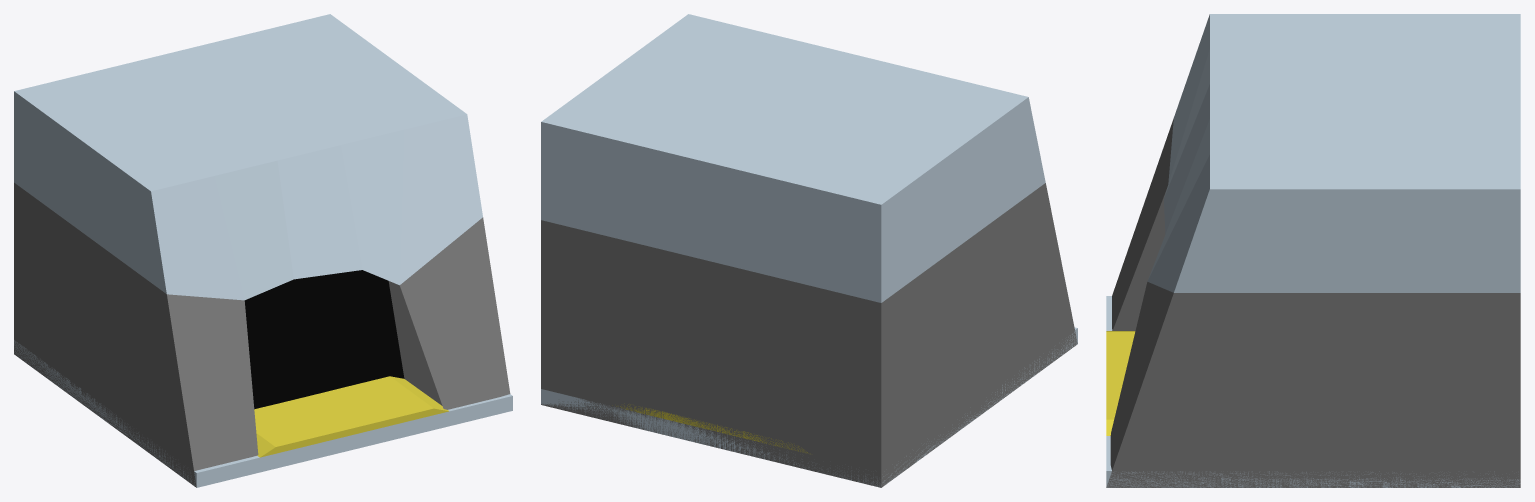
Rendered from world27.fbx.
The picture shows the model from 3 angles, left to right: view 1: azimuth 30°, elevation 25°; view 2: azimuth 150°, elevation 25°; view 3: azimuth 270°, elevation 25°; orthographic projection. The views are drawn at different scales.
Visible parts, largest first — view 1: Cube.138, Cube.139, Cube.140; view 2: Cube.138, Cube.140, Cube.139; view 3: Cube.138, Cube.140, Cube.139.
Part boxes in pixels (left/top/right/bottom): Cube.138: left=14, top=14, right=510, bottom=487; Cube.139: left=254, top=376, right=448, bottom=457; Cube.140: left=14, top=340, right=512, bottom=487; Cube.138: left=541, top=14, right=1077, bottom=487; Cube.140: left=541, top=327, right=1077, bottom=487; Cube.139: left=612, top=403, right=810, bottom=453; Cube.138: left=1106, top=14, right=1520, bottom=487; Cube.140: left=1106, top=296, right=1520, bottom=487; Cube.139: left=1106, top=331, right=1135, bottom=435.
Size of the model in its own units: 400 by 342 by 400.
